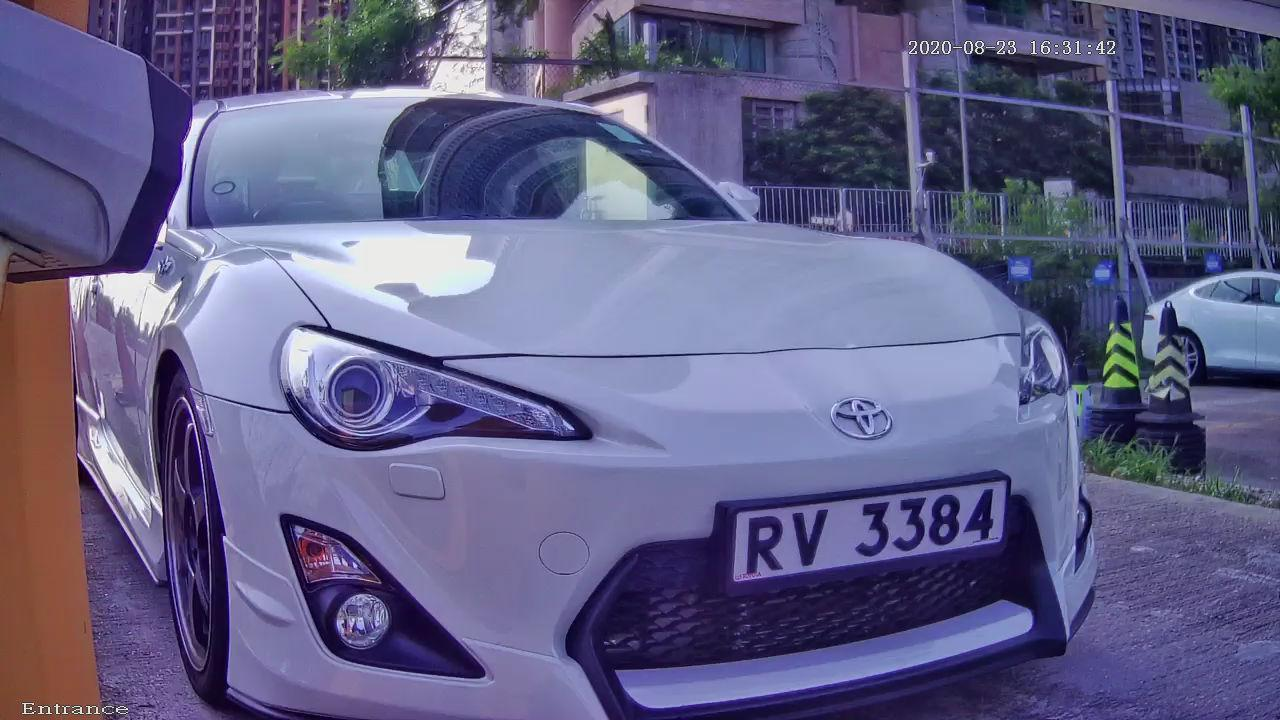License Plate: (663, 431, 1045, 633)
